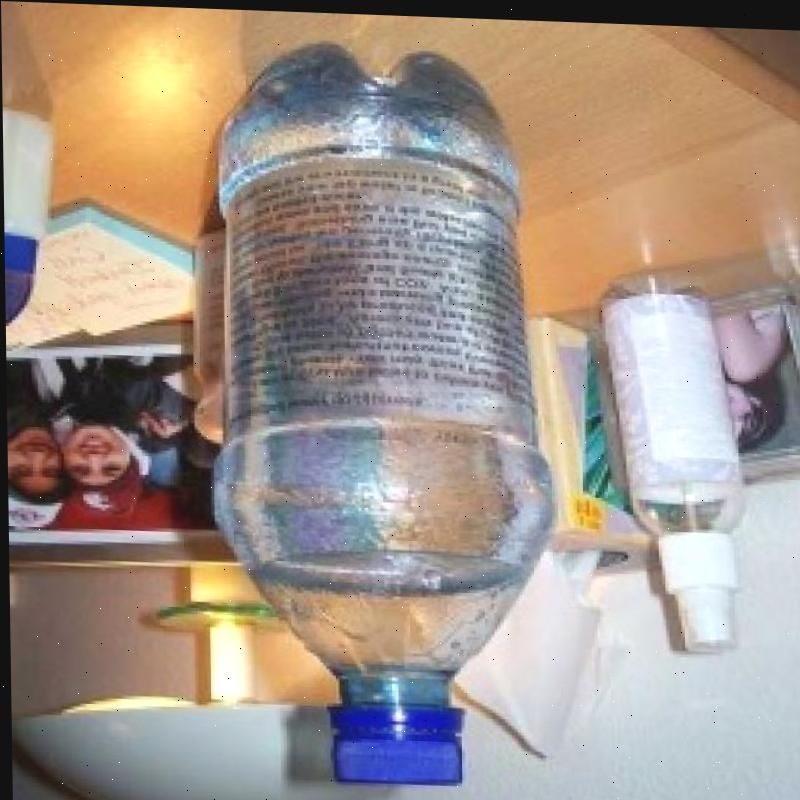botella: (200, 39, 553, 793)
